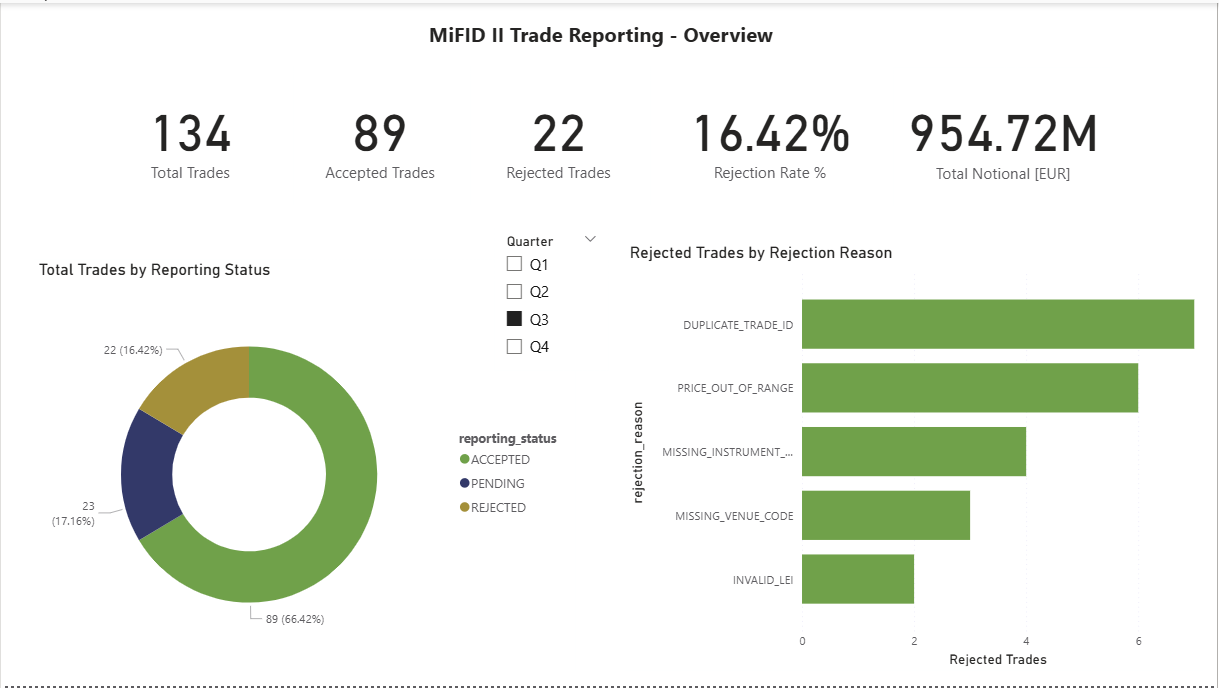

The page's visual inventory and layout, read from the dashboard file:
{"tool":"powerbi","page":{"name":"Page 1","canvas":[1280,720],"ordinal":0},"visuals":[{"type":"card","fields":{"Values":["synthetic_trades.Total Trades"]},"box":[94.7,66.3,208.4,146.8],"z":0},{"type":"card","fields":{"Values":["synthetic_trades.Accepted Trades"]},"box":[307.9,66.3,181.6,146.8],"z":1000},{"type":"card","fields":{"Values":["synthetic_trades.Rejected Trades"]},"box":[494.2,66.3,184.7,146.8],"z":2000},{"type":"card","fields":{"Values":["synthetic_trades.Rejection Rate %"]},"box":[683.7,66.3,251.1,146.8],"z":3000},{"type":"card","fields":{"Values":["synthetic_trades.Total Notional"]},"box":[939.5,67.9,230.5,145.3],"z":4000},{"type":"donutChart","title":"Total Trades by Reporting Status","fields":{"Category":["synthetic_trades.reporting_status"],"Y":["synthetic_trades.Total Trades"]},"box":[34.7,270,570,432.6],"z":5000},{"type":"clusteredBarChart","title":"Rejected Trades by Rejection Reason","fields":{"Category":["synthetic_trades.rejection_reason"],"Y":["synthetic_trades.Rejected Trades"]},"box":[656.9,252.6,607.9,450],"z":6000},{"type":"slicer","fields":{"Values":["DateTable.Quarter"]},"box":[519.5,236.8,120,150],"z":7000},{"type":"textbox","box":[445.3,12.6,386.8,42.6],"z":8000}]}

Visuals, with their boxes in screenshot pixels (x1, y1, x2, y2), scaled from the page's 1280x720 canvas onto the 1219x688 screenshot:
card - synthetic_trades.Total Trades: bbox=[90, 63, 289, 204]
card - synthetic_trades.Accepted Trades: bbox=[293, 63, 466, 204]
card - synthetic_trades.Rejected Trades: bbox=[471, 63, 647, 204]
card - synthetic_trades.Rejection Rate %: bbox=[651, 63, 890, 204]
card - synthetic_trades.Total Notional: bbox=[895, 65, 1114, 204]
"Total Trades by Reporting Status" donutChart: bbox=[33, 258, 576, 671]
"Rejected Trades by Rejection Reason" clusteredBarChart: bbox=[626, 241, 1205, 671]
slicer - DateTable.Quarter: bbox=[495, 226, 609, 370]
textbox: bbox=[424, 12, 792, 53]
